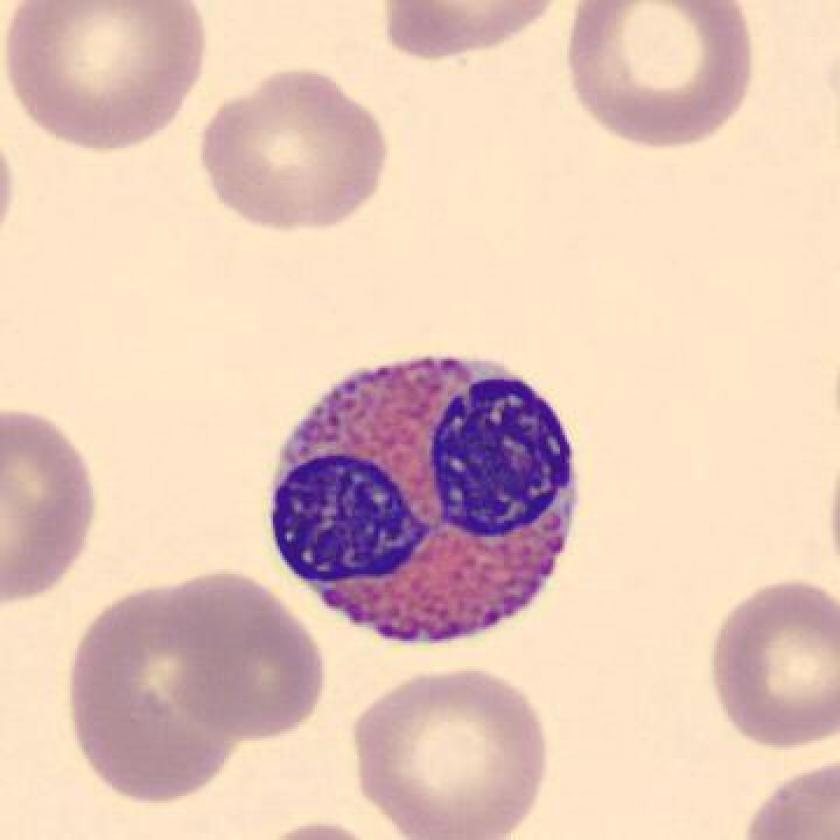eosinophil: (260, 339, 601, 660)
